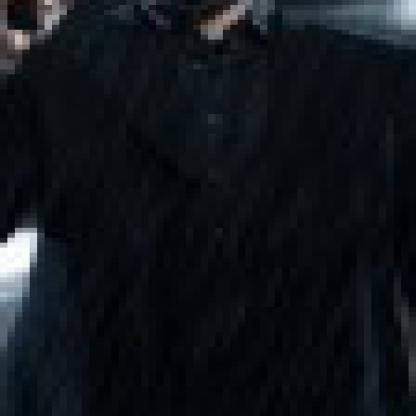gun: (0, 0, 112, 55)
